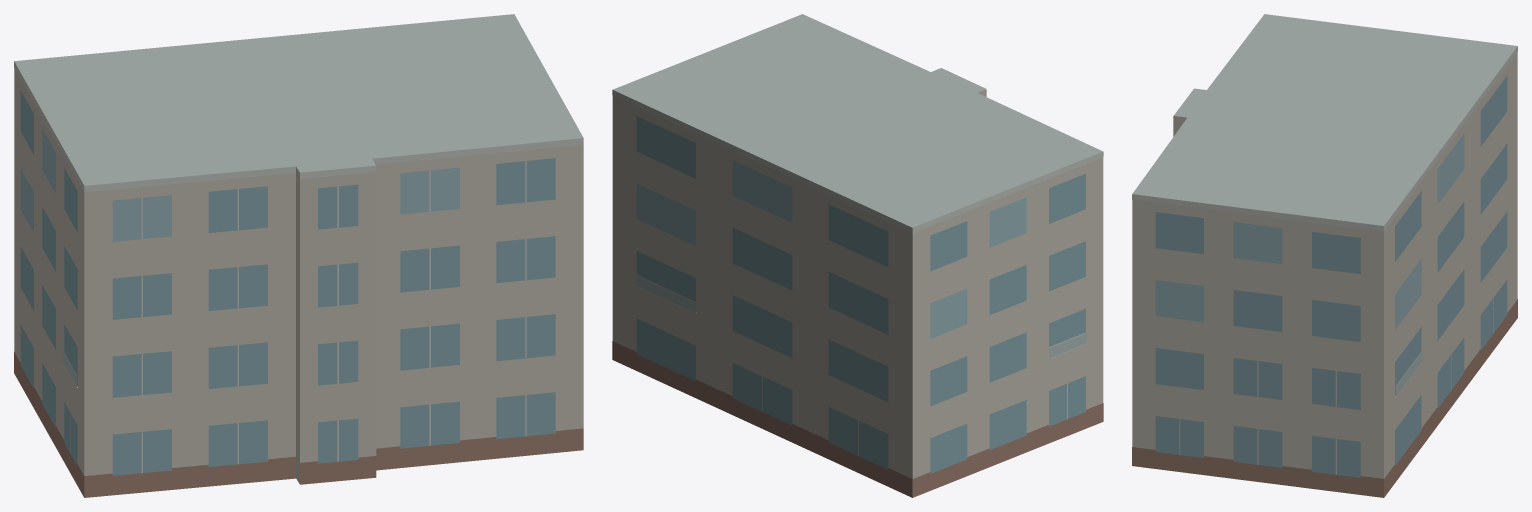
The model's file is survey-upis-32804471.glb.
3 renders of one model, left to right at view 1: azimuth 30°, elevation 25°; view 2: azimuth 150°, elevation 25°; view 3: azimuth 270°, elevation 25°, orthographic. The views are drawn at different scales.
Visible parts, largest first — view 1: survey-upis-32804471.tmp; view 2: survey-upis-32804471.tmp; view 3: survey-upis-32804471.tmp.
Part boxes in pixels (x1=…): survey-upis-32804471.tmp: x1=14, y1=14, x2=583, y2=497; survey-upis-32804471.tmp: x1=612, y1=14, x2=1103, y2=497; survey-upis-32804471.tmp: x1=1132, y1=14, x2=1517, y2=497.
Size of the model in its own units: 19.74 by 11.8 by 15.18.
